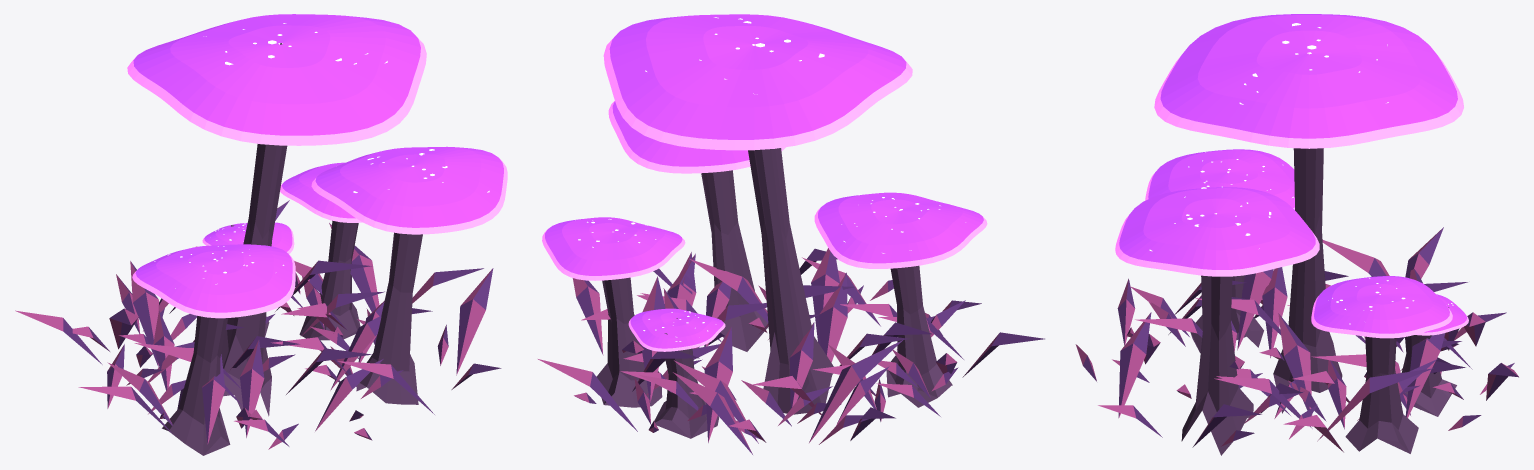
The model's file is amethyst_garden.glb.
3 views of the same model, side by side, from view 1: azimuth 30°, elevation 25°; view 2: azimuth 150°, elevation 25°; view 3: azimuth 270°, elevation 25° (orthographic). The views are drawn at different scales.
Visible parts, largest first — view 1: amethyst_garden; view 2: amethyst_garden; view 3: amethyst_garden.
Boxes of the visible parts, x1,y1,x2,y2 form: amethyst_garden: [15, 14, 507, 455]; amethyst_garden: [538, 14, 1044, 454]; amethyst_garden: [1075, 14, 1518, 455].
Size of the model in its own units: 2.52 by 1.99 by 2.14.
